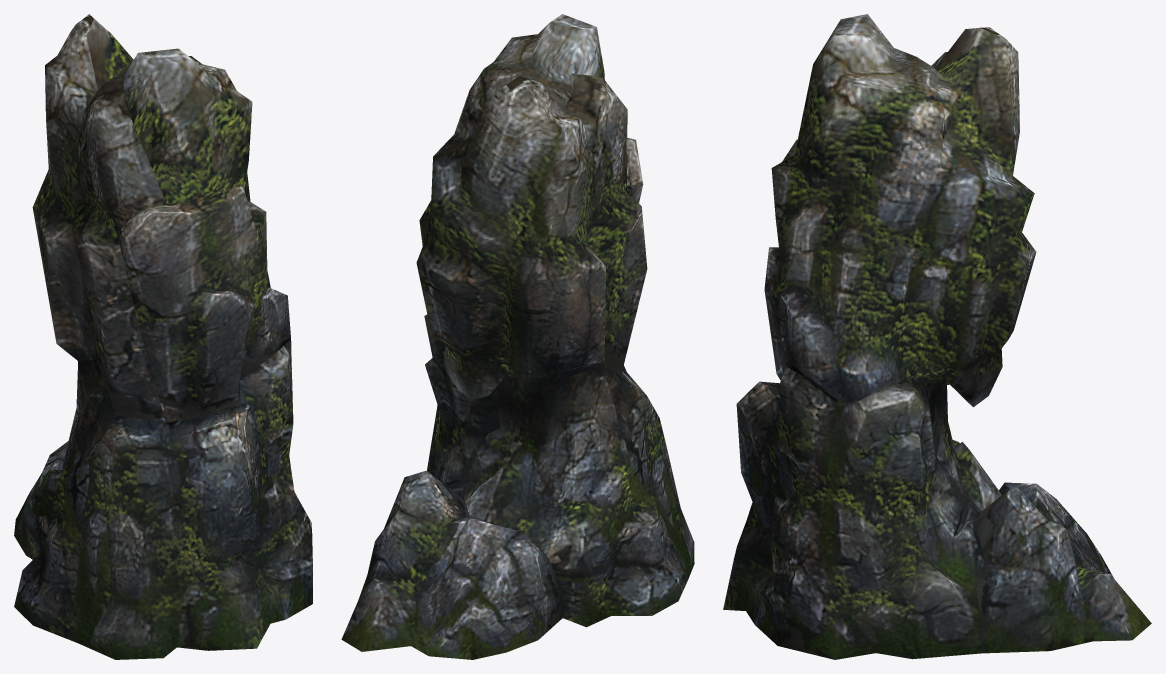
The model's file is Utility_Stone_Maincity12_02_LOD2.FBX.
3 views of the same model, side by side, from view 1: azimuth 30°, elevation 25°; view 2: azimuth 150°, elevation 25°; view 3: azimuth 270°, elevation 25° (orthographic). The views are drawn at different scales.
Parts seen in each view (by area): view 1: Utility_Stone_Maincity12_02_LOD2; view 2: Utility_Stone_Maincity12_02_LOD2; view 3: Utility_Stone_Maincity12_02_LOD2.
Boxes of the visible parts, x1,y1,x2,y2 form: Utility_Stone_Maincity12_02_LOD2: [14, 14, 312, 659]; Utility_Stone_Maincity12_02_LOD2: [341, 14, 694, 659]; Utility_Stone_Maincity12_02_LOD2: [723, 14, 1151, 659].
Bounding box in the file's own units: 8354 × 17394 × 11795.
